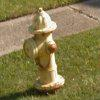Hydrant: (21, 2, 69, 100)
